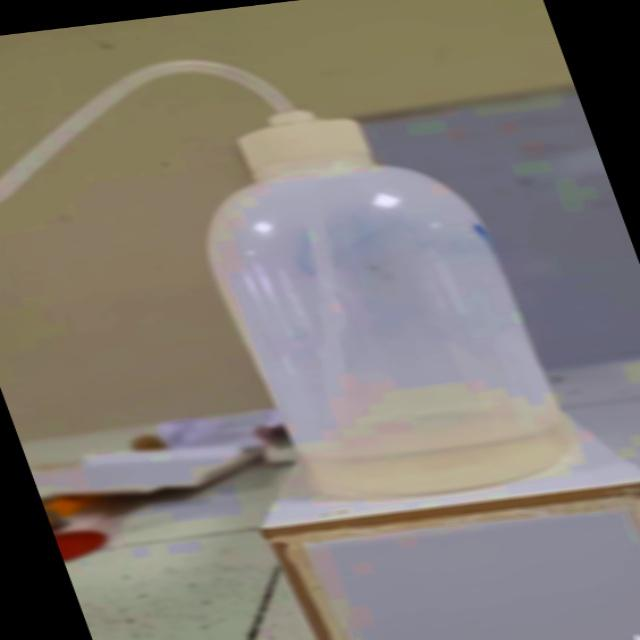Washing Bottle: (0, 14, 601, 532)
